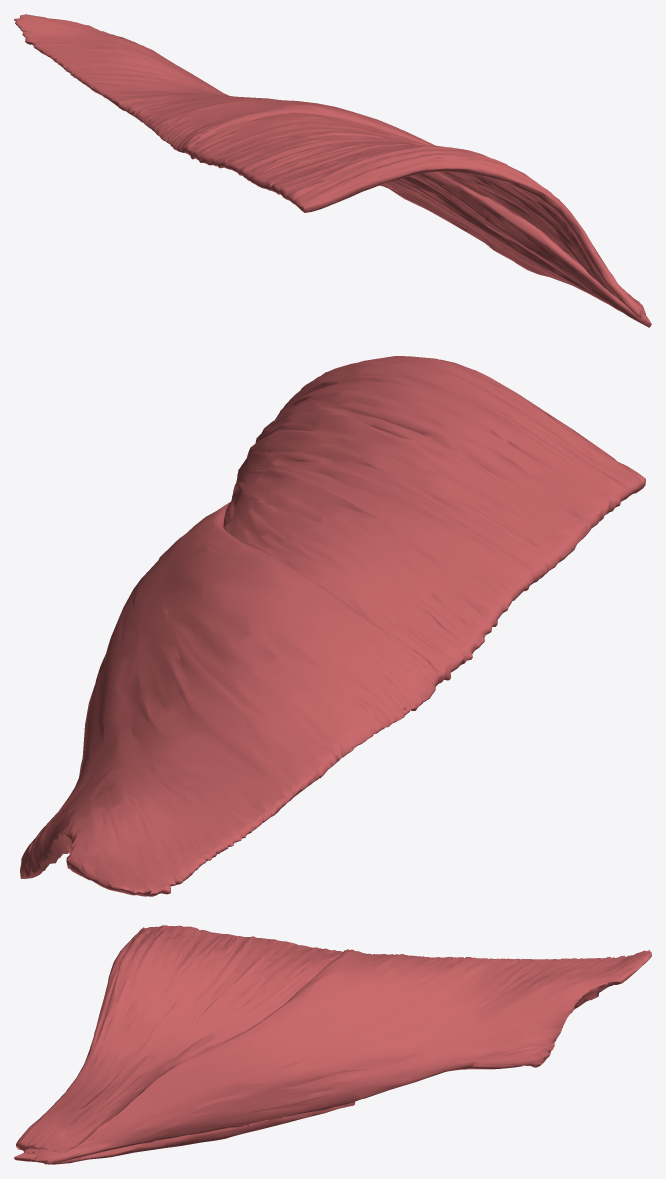
The picture shows the model from 3 angles, top to bottom: view 1: azimuth 30°, elevation 25°; view 2: azimuth 150°, elevation 25°; view 3: azimuth 270°, elevation 25°; orthographic projection. The views are drawn at different scales.
Visible parts, largest first — view 1: 左侧背阔肌; view 2: 左侧背阔肌; view 3: 左侧背阔肌.
Boxes of the visible parts, x1,y1,x2,y2 form: 左侧背阔肌: (14,14,651,327); 左侧背阔肌: (20,356,645,896); 左侧背阔肌: (14,925,651,1164).
Bounding box in the file's own units: 0.2753 × 0.1498 × 0.6047.
